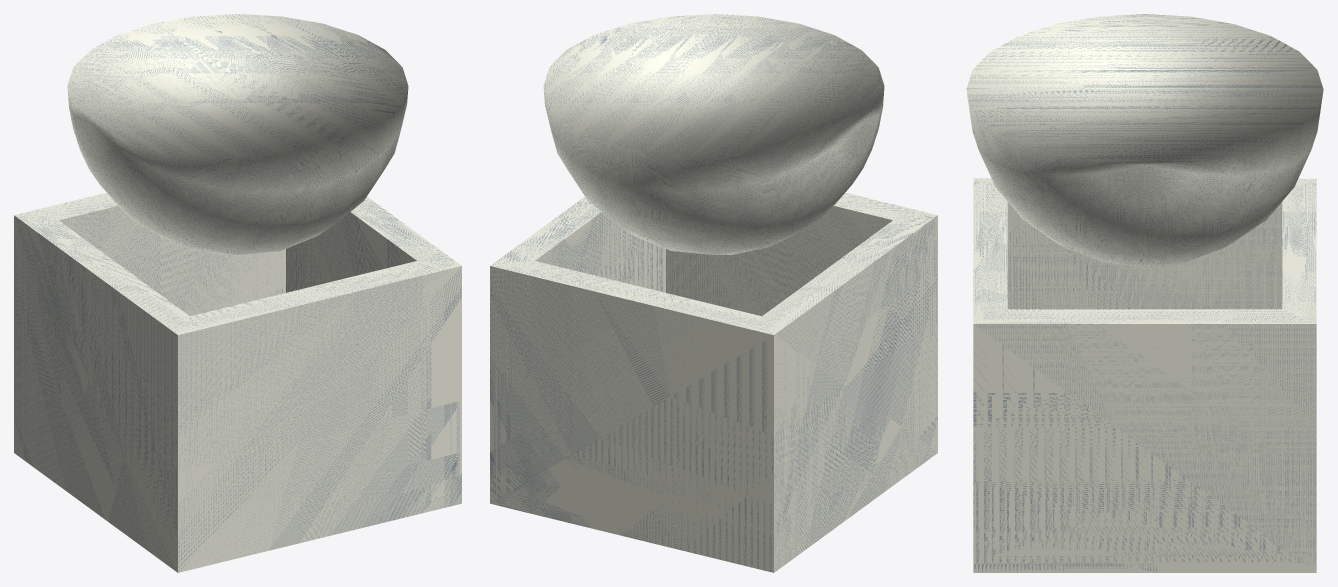
The picture shows the model from 3 angles, left to right: view 1: azimuth 30°, elevation 25°; view 2: azimuth 150°, elevation 25°; view 3: azimuth 270°, elevation 25°; orthographic projection. The views are drawn at different scales.
Visible parts, largest first — view 1: Model; view 2: Model; view 3: Model.
Boxes of the visible parts, bbox=[...] form: Model: bbox=[14, 14, 461, 572]; Model: bbox=[490, 14, 937, 572]; Model: bbox=[966, 14, 1323, 572].
Size of the model in its own units: 5.2 by 6.6 by 5.2.
